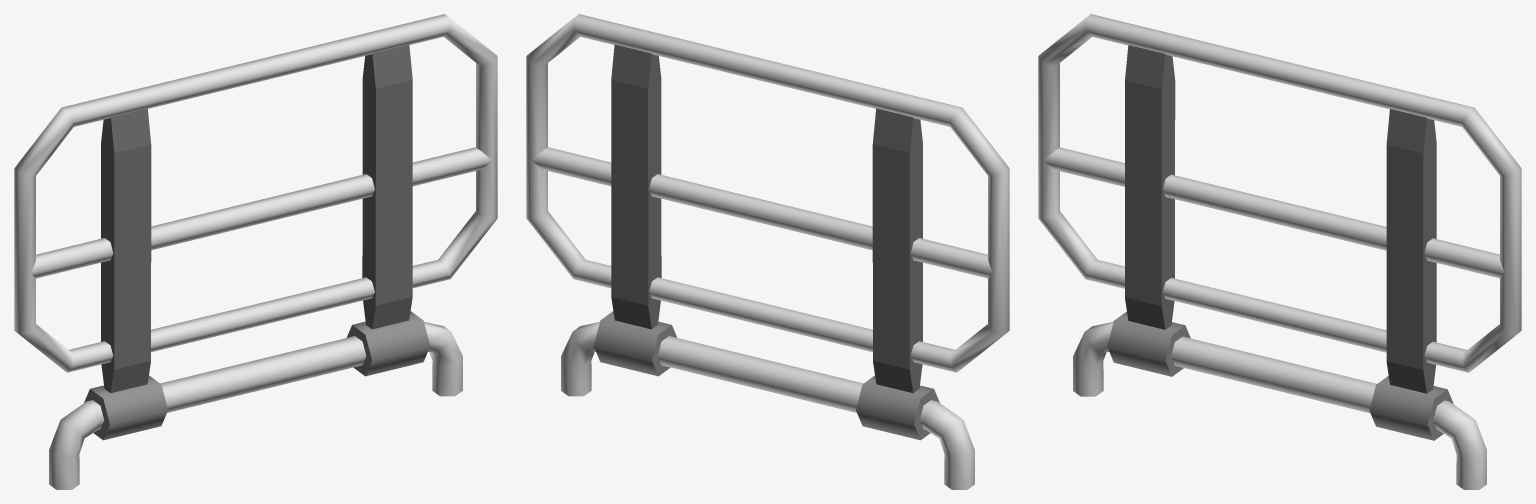
Rendered from Fence_type_A_001.glb.
3 renders of one model, left to right at view 1: azimuth 30°, elevation 25°; view 2: azimuth 150°, elevation 25°; view 3: azimuth 330°, elevation 25°, orthographic.
Visible parts, largest first — view 1: Fence_type_A_001; view 2: Fence_type_A_001; view 3: Fence_type_A_001.
Part boxes in pixels (box(x1,y1,x2,y2)): Fence_type_A_001: box(14, 14, 497, 489); Fence_type_A_001: box(526, 14, 1009, 489); Fence_type_A_001: box(1038, 14, 1521, 489).
Bounding box in the file's own units: 1.9 × 1.42 × 0.1839.
Materials: 1 (1 with a texture image).
